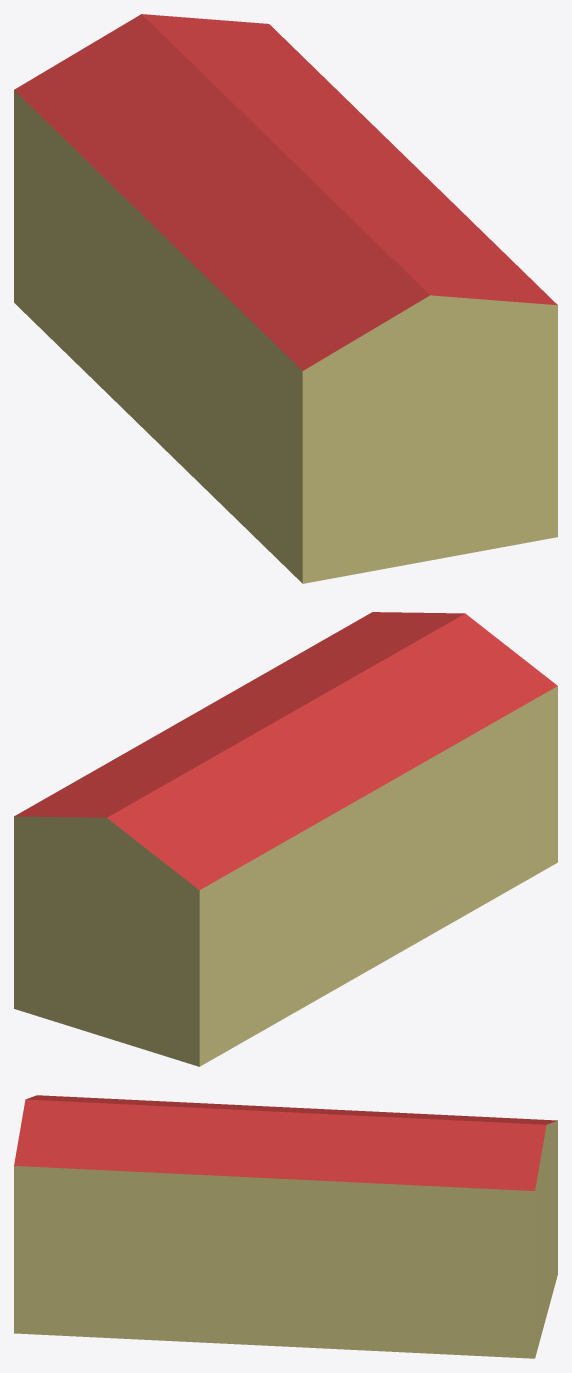
The picture shows the model from 3 angles, top to bottom: view 1: azimuth 30°, elevation 25°; view 2: azimuth 150°, elevation 25°; view 3: azimuth 270°, elevation 25°; orthographic projection. The views are drawn at different scales.
Bounding box in the file's own units: 6.67 × 13.98 × 5.43.
